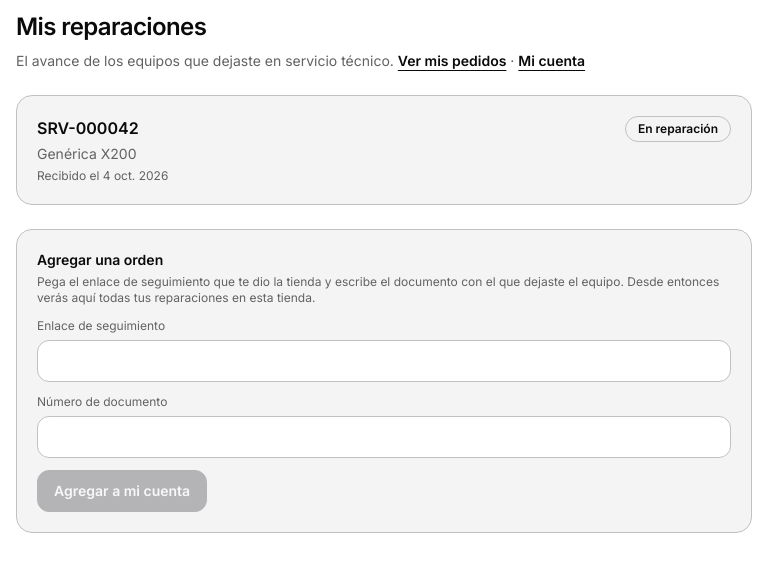
it: an order that belongs to another account is refused with the reason
Check: the link "SRV-000042" is shown, box [37,118,139,138]
In the field labelled "Enlace de seguimiento": [384, 361] box [37,340,731,382], type "kQ3xV9aZ0bC1dE2fG3hI4jK5lM6nO7pQ8rS9tU0vW1x"
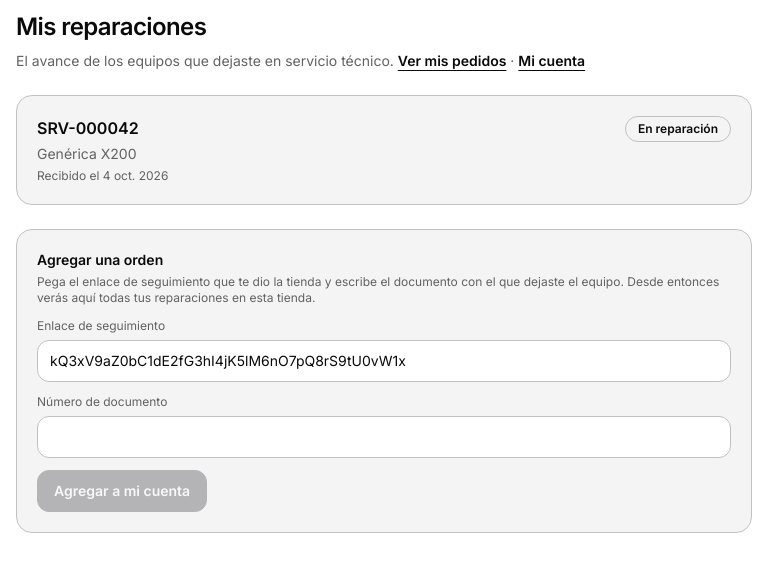
In the field labelled "Número de documento": [384, 437] box [37,416,731,458], type "45678912"
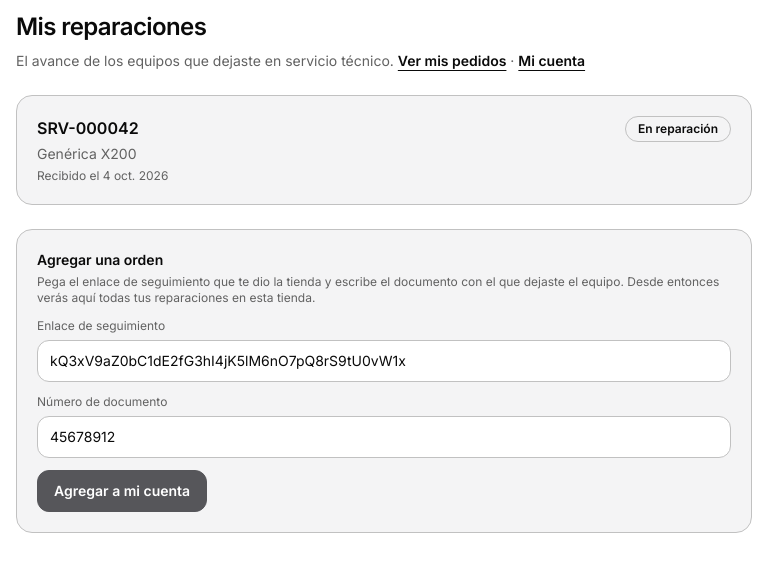
Click the button "Agregar a mi cuenta": [122, 491] box [37,470,207,512]
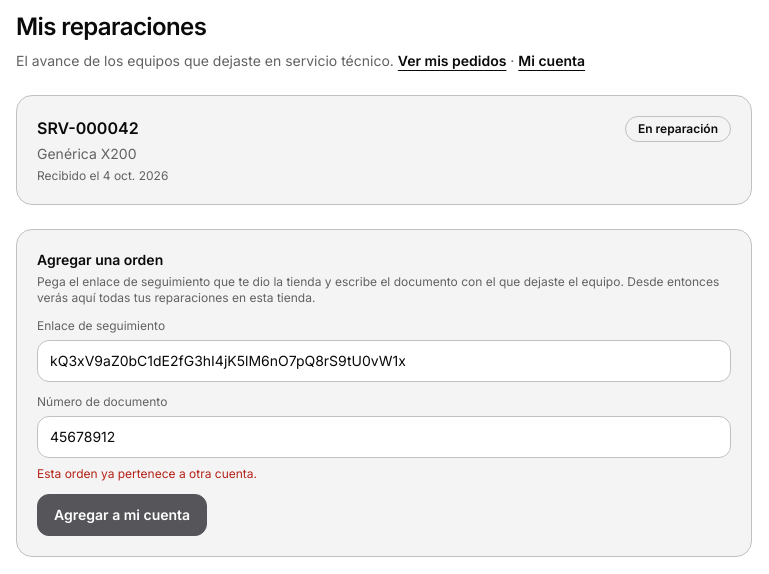
Check: the text "Esta orden ya pertenece a otra cuenta." is shown, box [37,466,257,481]
